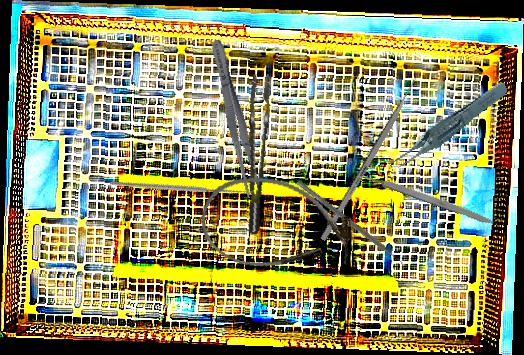Cannula: (193, 166, 361, 285)
Dressing Forceps: (205, 37, 266, 200)
Hook Surgical: (108, 115, 259, 255)
Pusher: (319, 65, 426, 242)
Scalpel Handle: (364, 171, 500, 228)
Spatula Surgical: (292, 179, 410, 272)
Tissue Forceps: (371, 80, 520, 172), (226, 71, 286, 235)
